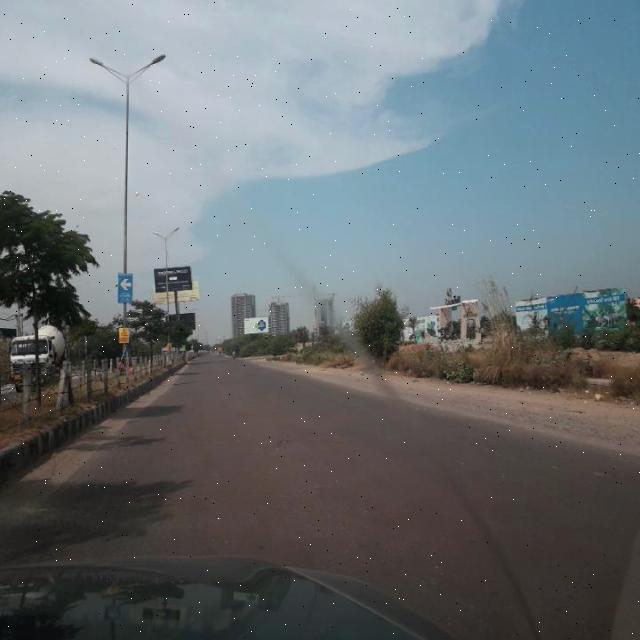D40: (269, 433, 296, 450)
